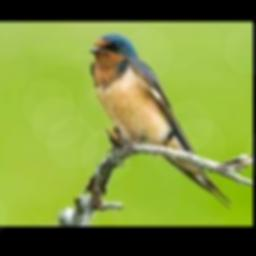Swallow: (90, 33, 233, 210)
